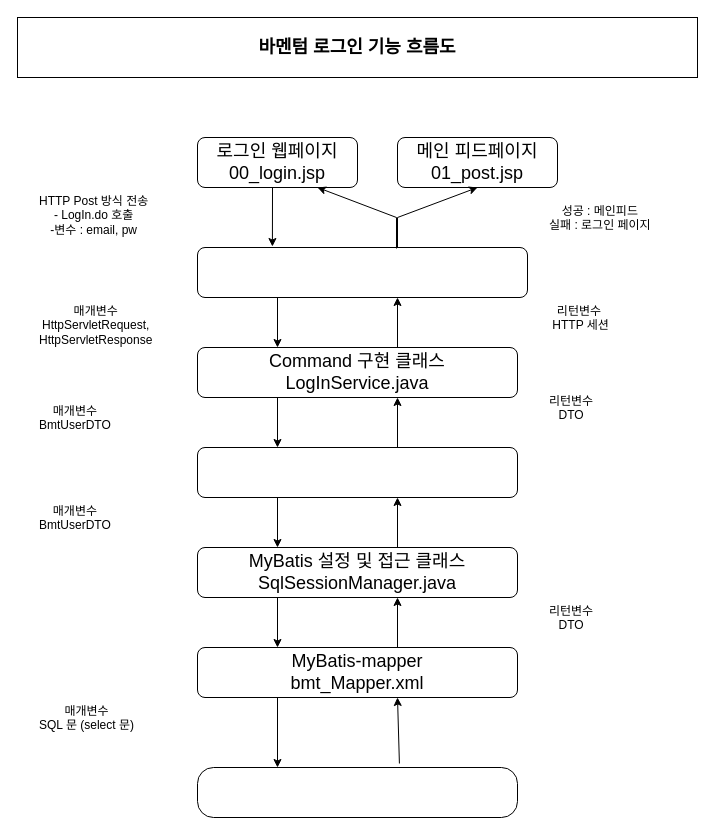
The diagram is 715 pixels wide and 835 high, and some of its shapes have lost their labels. The shapes that lost their labels are listed below. From the top down, each one's centre as x and y in pixels, then its label:
At point (362, 272): "FrontController - 서블릿 클래스 FrontController.java".
At point (357, 472): "DB Access 클래스 BmtUserDAO.java".
At point (357, 792): "Oracle DB".
